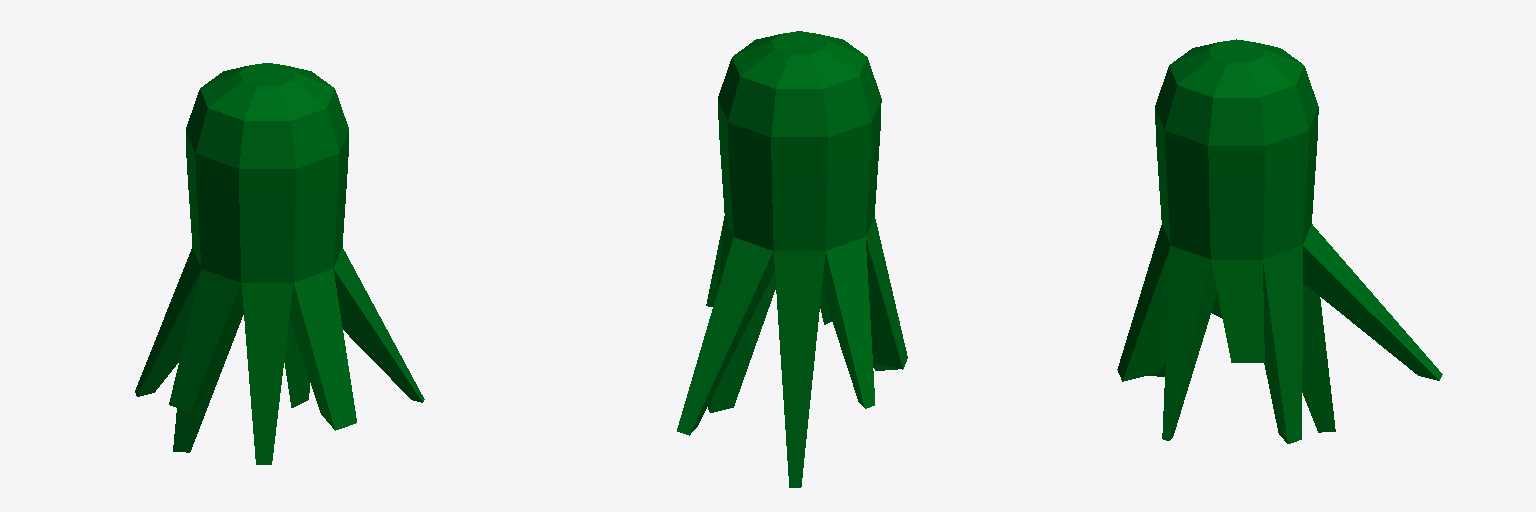
Rendered from SeguaroCactusSmall_LOD0.obj.
The picture shows the model from 3 angles: view 1: azimuth 30°, elevation 25°; view 2: azimuth 150°, elevation 25°; view 3: azimuth 270°, elevation 25°; orthographic projection.
Visible parts, largest first — view 1: SeguaroCactusSmall_LOD0; view 2: SeguaroCactusSmall_LOD0; view 3: SeguaroCactusSmall_LOD0.
Part boxes in pixels (x1,y1,x2,y2): SeguaroCactusSmall_LOD0: (135,63,424,464); SeguaroCactusSmall_LOD0: (677,31,907,487); SeguaroCactusSmall_LOD0: (1117,39,1442,443).
Bounding box in the file's own units: 38.16 × 64.3 × 47.52.